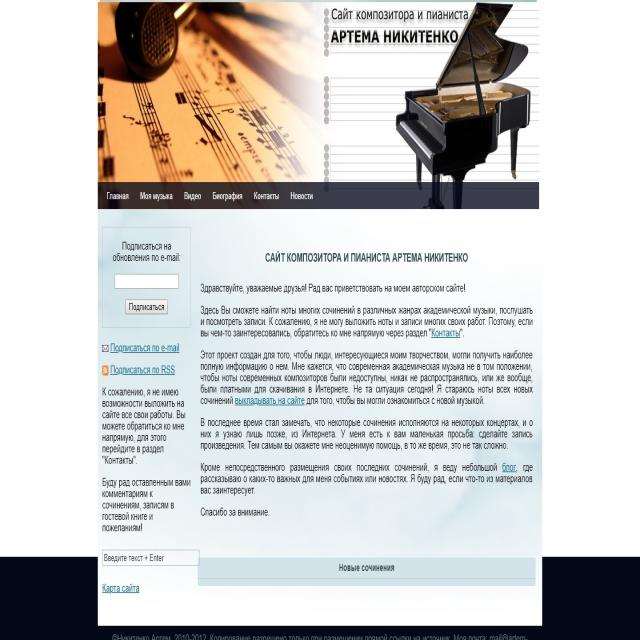button: (138, 183, 176, 209), (211, 183, 246, 209), (251, 182, 282, 208), (288, 182, 316, 209), (180, 183, 206, 209), (104, 184, 132, 208), (126, 300, 168, 315)
field: (103, 549, 200, 568), (116, 274, 178, 288)
heading: (327, 0, 470, 46), (264, 247, 468, 267), (113, 238, 181, 264)
image: (98, 0, 539, 182)
label: (104, 553, 166, 563)
link: (110, 340, 182, 354), (109, 362, 178, 376), (235, 395, 307, 407), (102, 582, 141, 596), (431, 327, 461, 339), (501, 460, 517, 476)
text: (199, 348, 534, 408), (200, 302, 534, 340), (200, 416, 534, 452), (200, 462, 534, 496), (102, 383, 186, 469), (102, 474, 192, 536), (200, 282, 467, 294), (200, 504, 269, 521), (337, 562, 396, 574)
